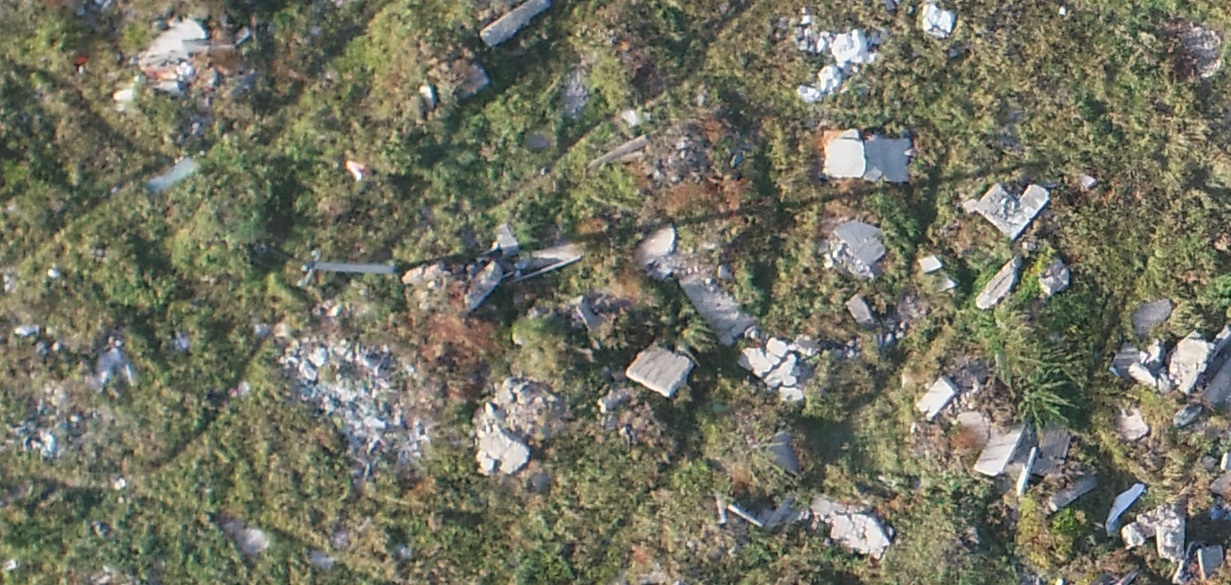opora: (293, 239, 480, 288)
